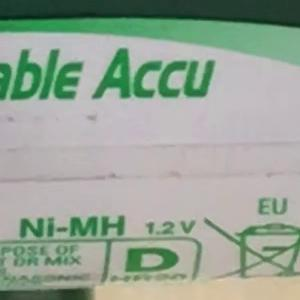NI-MH: (11, 206, 134, 261)
